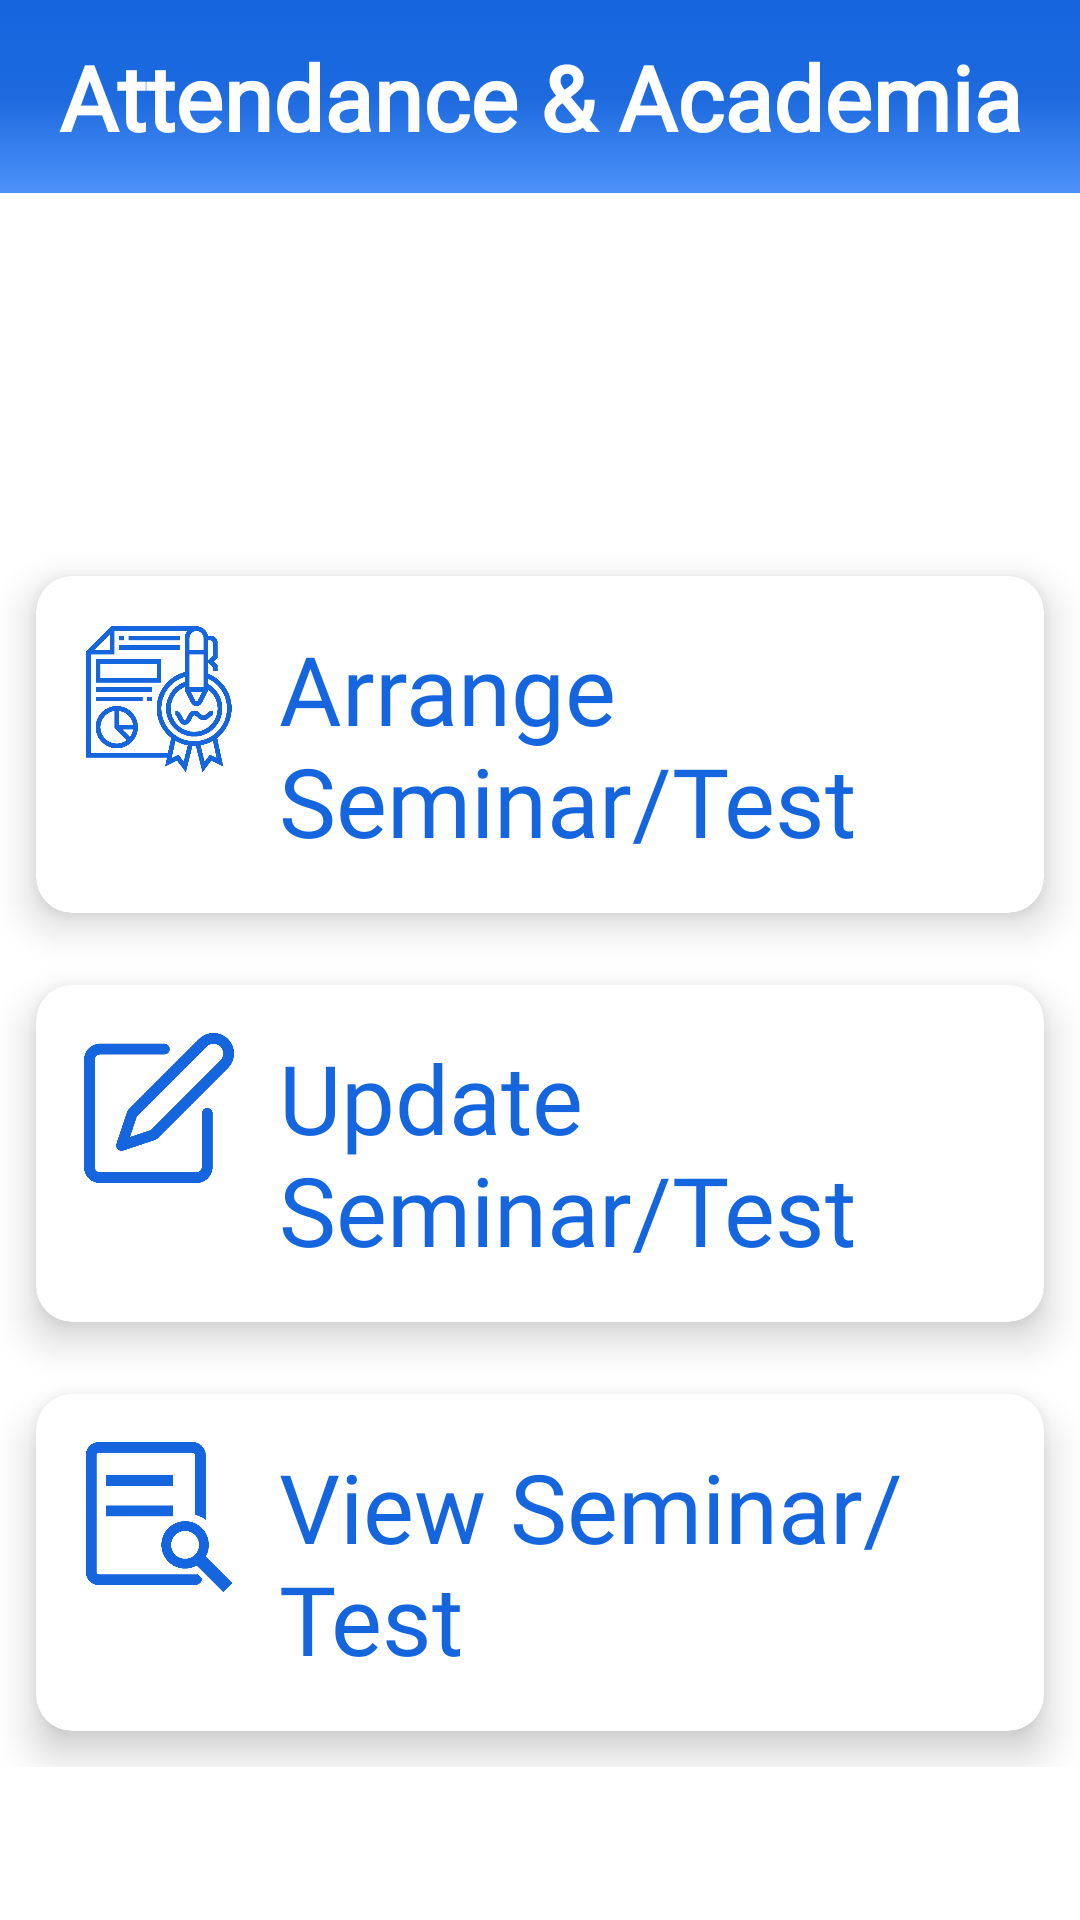

Icons on this 1080px×1920px Android screen, each with the point to tap as [x,y]:
edit: [159,1108]
